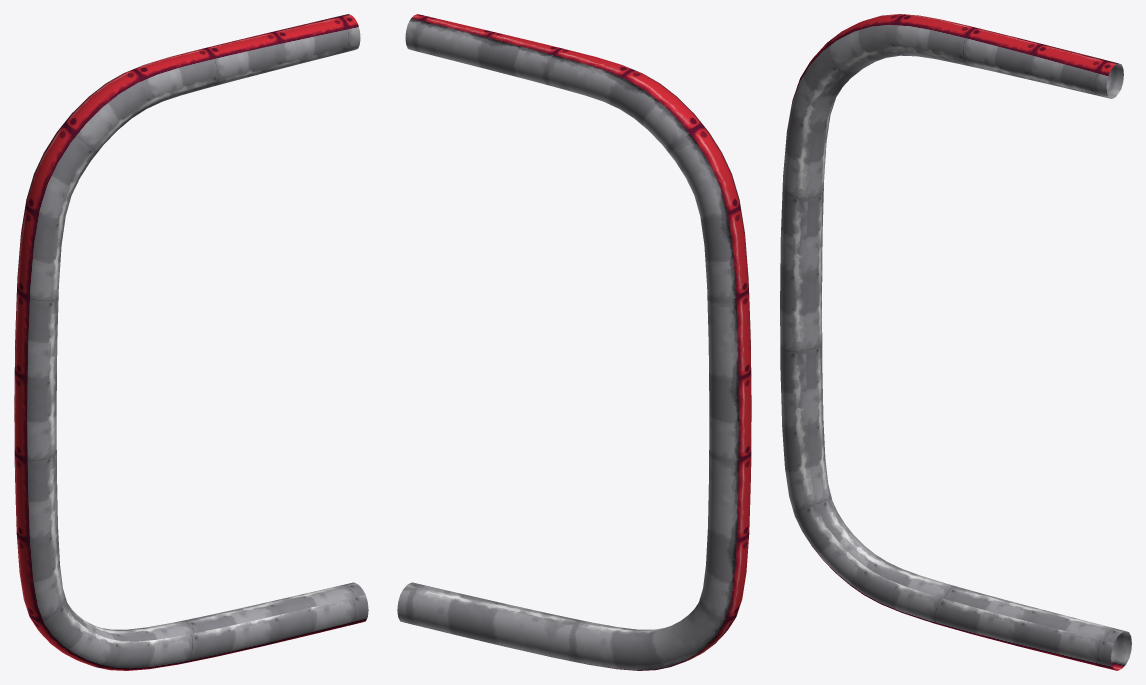
3 renders of one model, left to right at view 1: azimuth 30°, elevation 25°; view 2: azimuth 150°, elevation 25°; view 3: azimuth 330°, elevation 25°, orthographic.
Visible parts, largest first — view 1: Cube; view 2: Cube; view 3: Cube.
Boxes of the visible parts, x1,y1,x2,y2 form: Cube: (14,14,368,670); Cube: (397,14,751,670); Cube: (780,14,1131,670).
Bounding box in the file's own units: 11.42 × 19.47 × 1.27.
